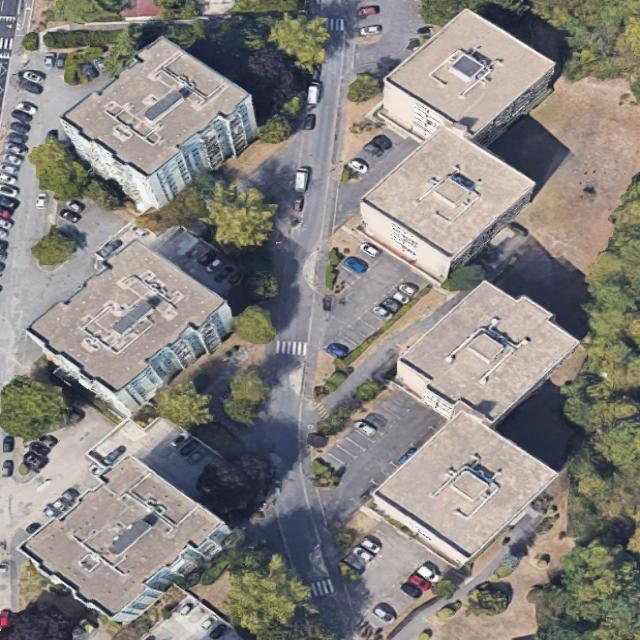immeuble: (18, 214, 245, 434), (52, 14, 274, 233), (16, 434, 234, 640), (385, 260, 581, 455), (345, 105, 542, 299), (367, 392, 559, 580), (366, 0, 563, 183)
